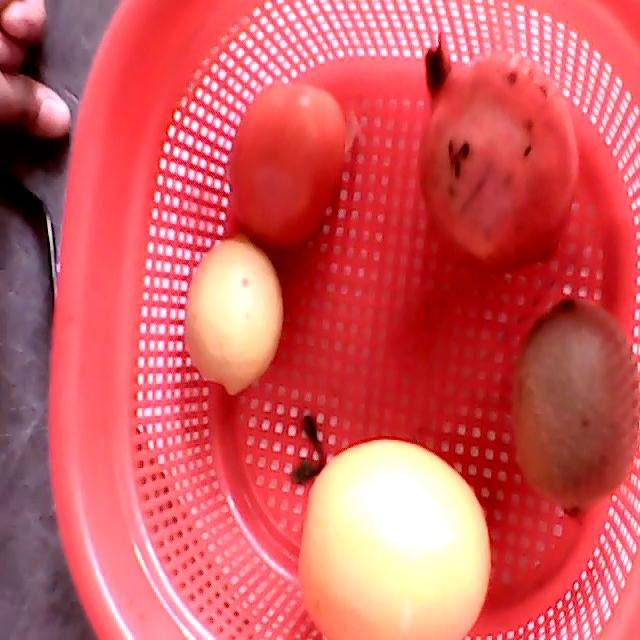kiwi: (515, 299, 638, 512)
lemon: (186, 238, 283, 395)
orange: (295, 439, 488, 639)
pomegranate: (416, 35, 579, 270)
tomato: (226, 79, 346, 253)
